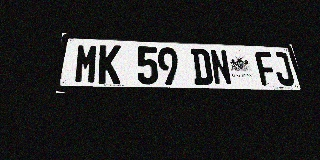5: (137, 46, 159, 84)
9: (158, 47, 180, 85)
D: (190, 49, 214, 85)
F: (254, 51, 279, 86)
J: (271, 52, 296, 86)
K: (98, 45, 121, 84)
M: (73, 44, 99, 84)
N: (209, 49, 233, 85)
